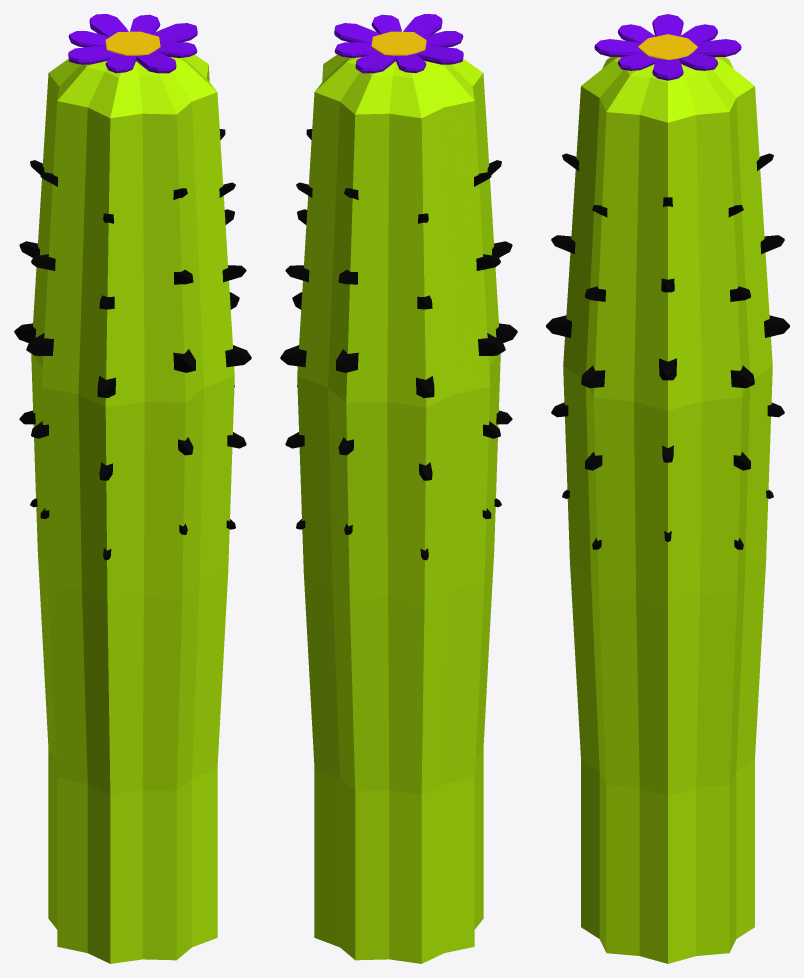
File: Cardon05_00Brazos_Flor_Morada.fbx
3 renders of one model, left to right at view 1: azimuth 30°, elevation 25°; view 2: azimuth 150°, elevation 25°; view 3: azimuth 270°, elevation 25°, orthographic.
Visible parts, largest first — view 1: Cactus, Espinas, Flor_Morada; view 2: Cactus, Espinas, Flor_Morada; view 3: Cactus, Espinas, Flor_Morada.
Boxes of the visible parts, <box> form: Cactus: <box>31,54,234,963</box>; Espinas: <box>14,129,251,560</box>; Flor_Morada: <box>68,14,197,73</box>; Cactus: <box>297,54,500,963</box>; Espinas: <box>280,129,517,560</box>; Flor_Morada: <box>334,14,463,73</box>; Cactus: <box>563,57,772,963</box>; Espinas: <box>546,153,789,549</box>; Flor_Morada: <box>594,14,741,80</box>.
Size of the model in its own units: 53.18 by 212 by 53.18.
